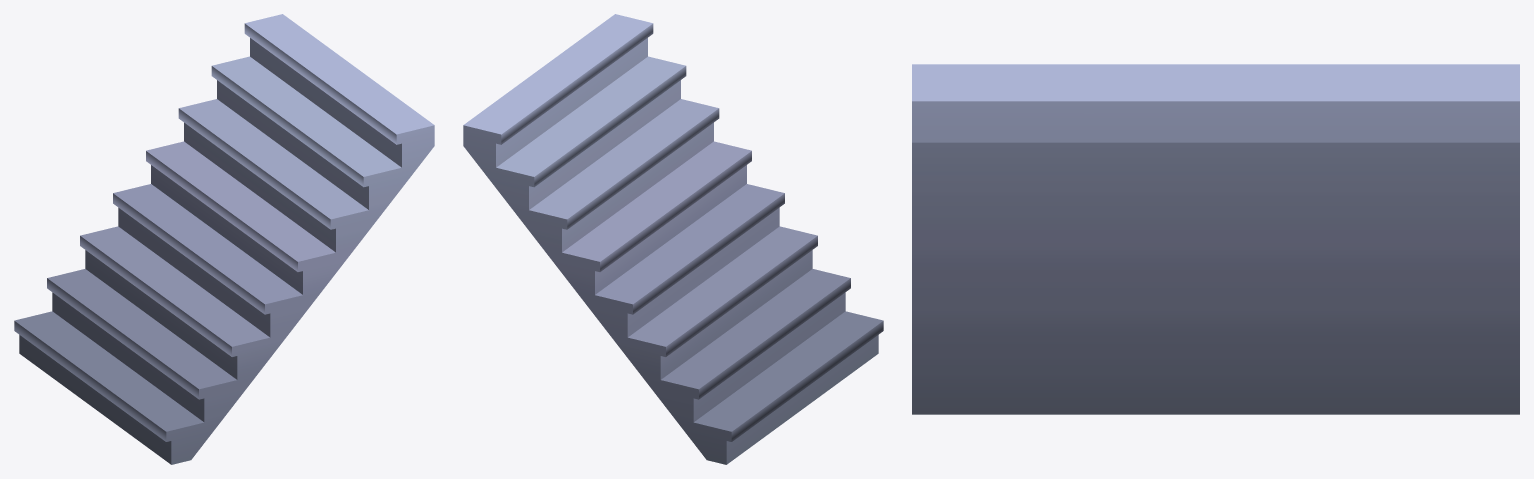
Rendered from stairs-wide-stone.glb.
3 renders of one model, left to right at view 1: azimuth 30°, elevation 25°; view 2: azimuth 150°, elevation 25°; view 3: azimuth 270°, elevation 25°, orthographic. The views are drawn at different scales.
Visible parts, largest first — view 1: stairs-wide-stone; view 2: stairs-wide-stone; view 3: stairs-wide-stone.
Part boxes in pixels (box(x1,y1,x2,y2)): stairs-wide-stone: box(14, 14, 434, 464); stairs-wide-stone: box(463, 14, 883, 464); stairs-wide-stone: box(912, 64, 1519, 414).
Size of the model in its own units: 1.02 by 1 by 1.
Materials: 1 (1 with a texture image).
